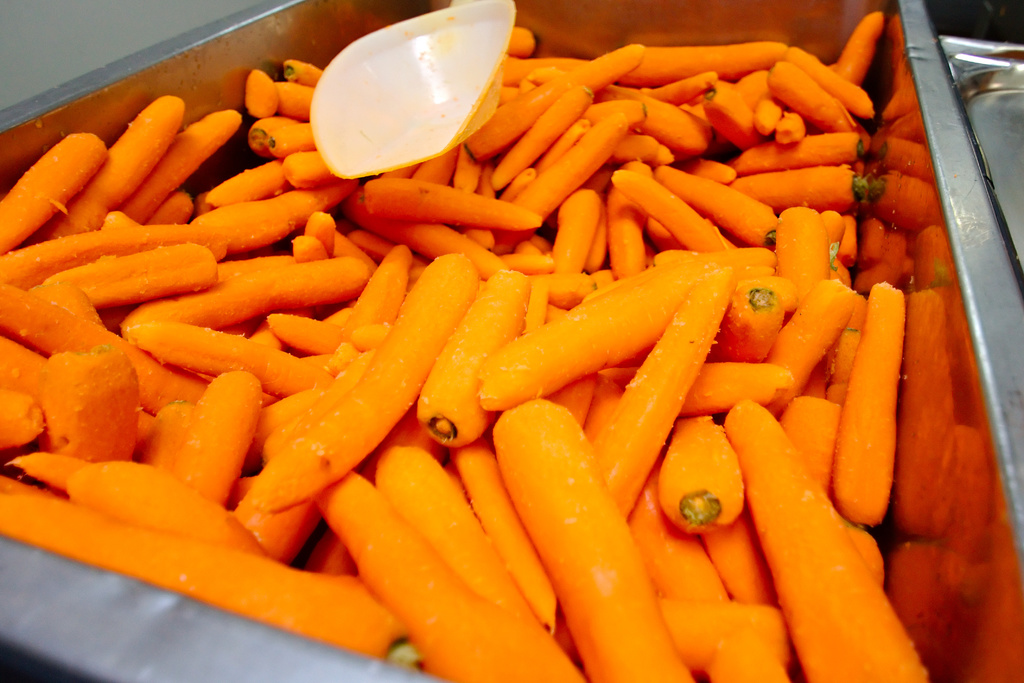Carrot: (0, 10, 935, 683)
